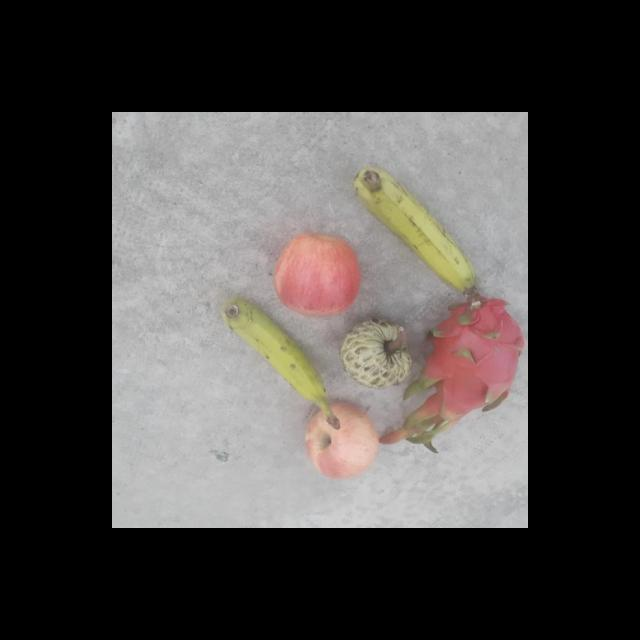Sakya fruit: (338, 314, 414, 390)
apple: (274, 230, 364, 320), (304, 399, 382, 482)
banana: (352, 162, 476, 296), (220, 296, 344, 429)
pitaya: (418, 292, 528, 422)
